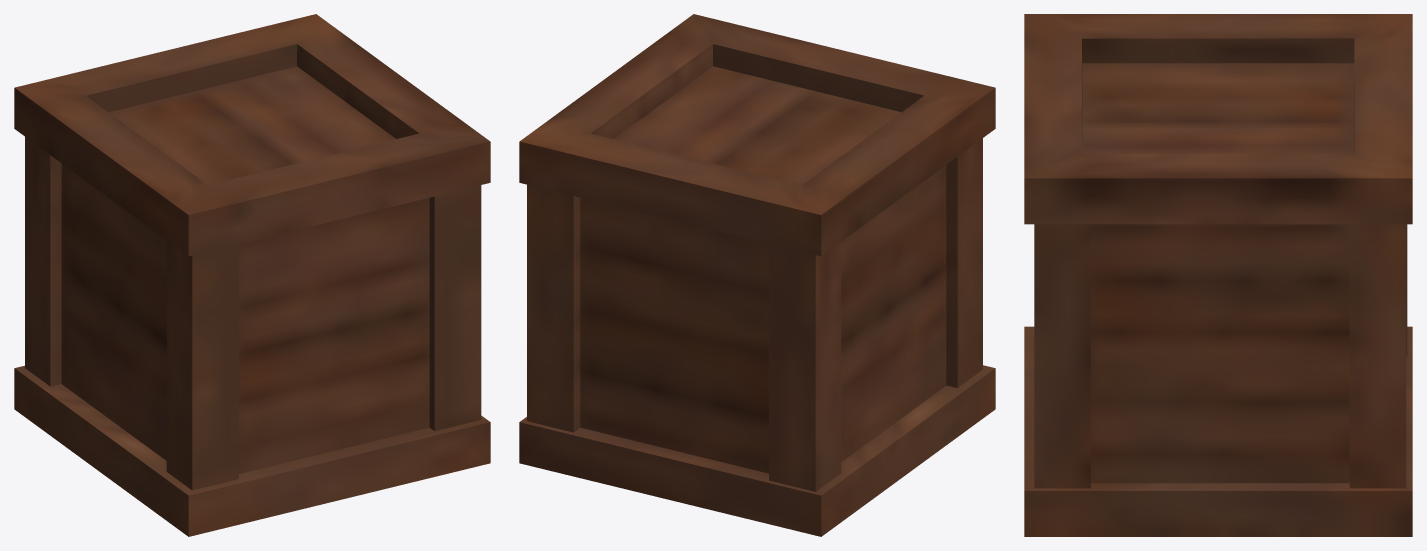
Rendered from Crate.fbx.
3 views of the same model, side by side, from view 1: azimuth 30°, elevation 25°; view 2: azimuth 150°, elevation 25°; view 3: azimuth 270°, elevation 25° (orthographic). The views are drawn at different scales.
Visible parts, largest first — view 1: Crate; view 2: Crate; view 3: Crate.
Boxes of the visible parts, left/top/right/bottom form: Crate: left=14, top=14, right=490, bottom=536; Crate: left=519, top=14, right=995, bottom=536; Crate: left=1024, top=14, right=1412, bottom=536.
Bounding box in the file's own units: 16.63 × 16.94 × 16.63.
